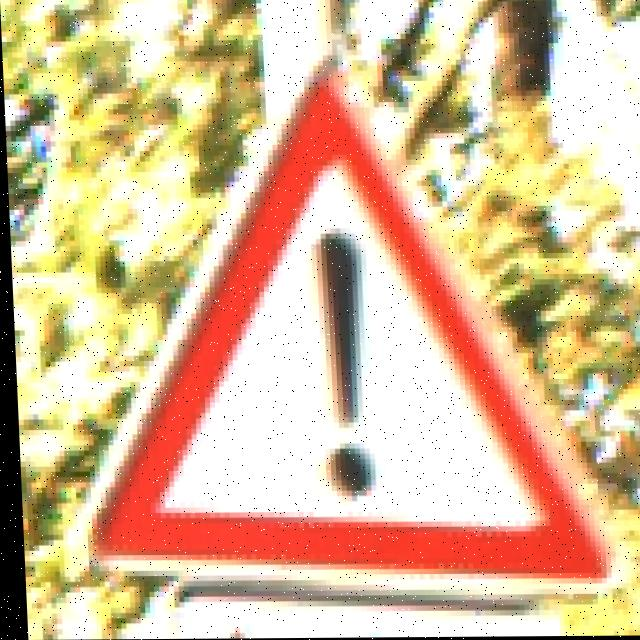warning: (93, 94, 617, 588)
